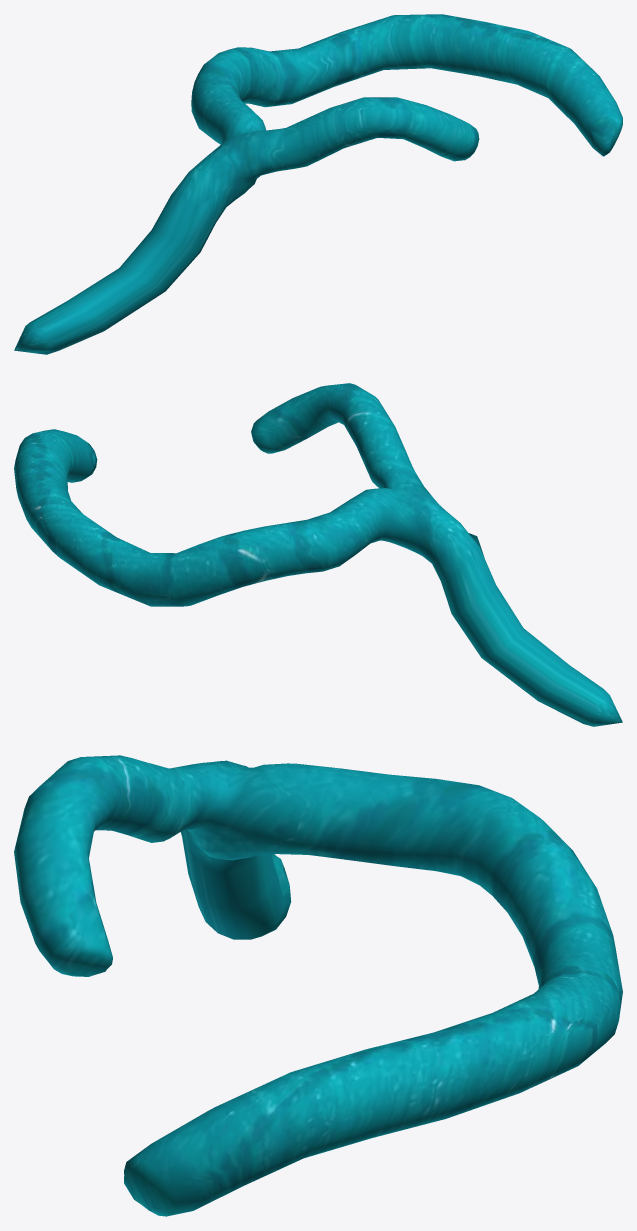
File: branche3.fbx
3 renders of one model, top to bottom at view 1: azimuth 30°, elevation 25°; view 2: azimuth 150°, elevation 25°; view 3: azimuth 270°, elevation 25°, orthographic. The views are drawn at different scales.
Visible parts, largest first — view 1: Roundcube.007; view 2: Roundcube.007; view 3: Roundcube.007.
Boxes of the visible parts, x1,y1,x2,y2 form: Roundcube.007: [14, 14, 622, 354]; Roundcube.007: [14, 383, 622, 726]; Roundcube.007: [14, 755, 622, 1216].
Bounding box in the file's own units: 509 × 184 × 261.
Materials: 1 (1 with a texture image).
